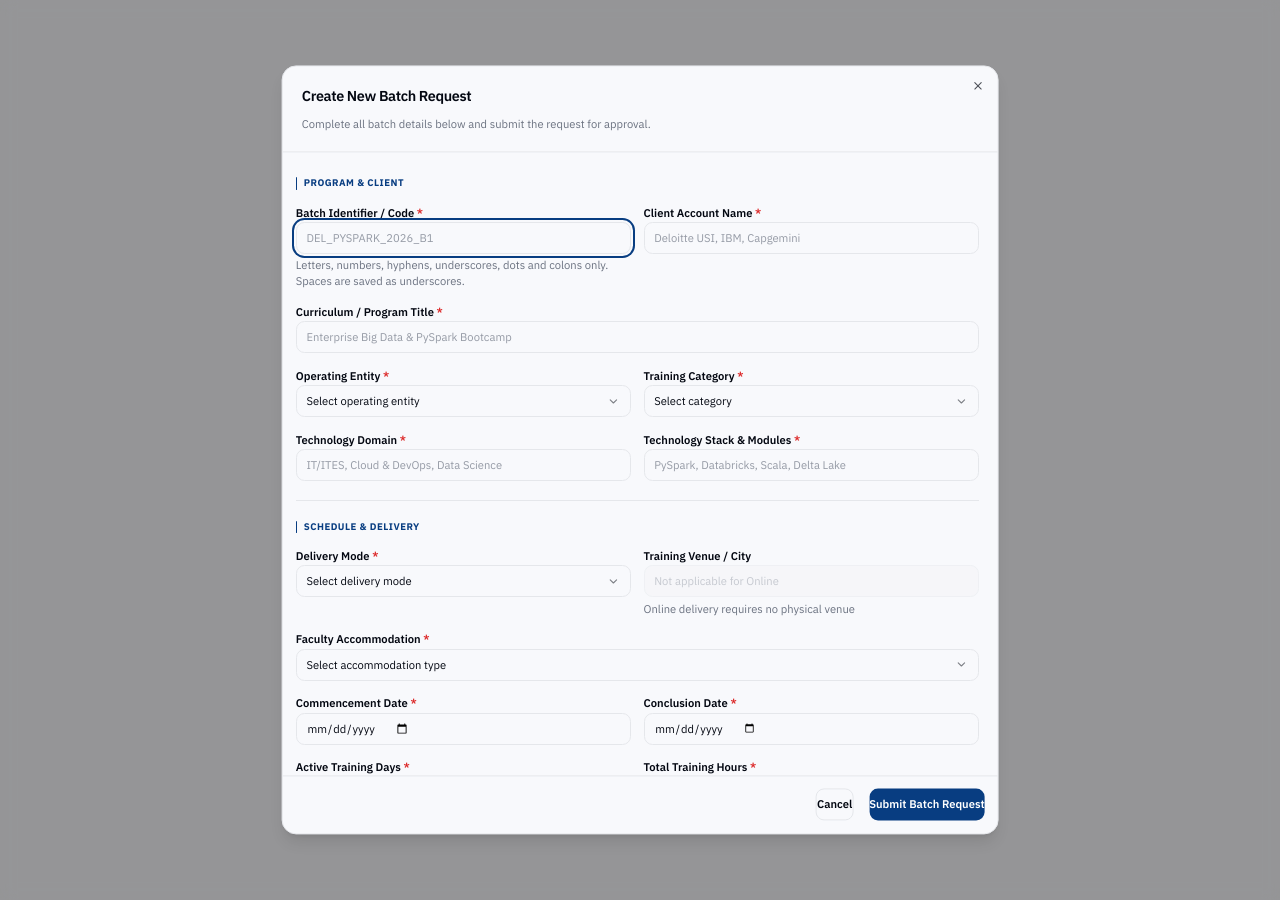
Test case: CreateBatchModal faculty chip field › normalizes the batch identifier to the allowed charset while typing
// Typed with spaces, which must never reach the form as-is.
In the field labelled "Batch Identifier / Code *": coordinates (463, 239) [295, 223, 630, 255], type "DLTE_AI Strategist _Sep26_B29"
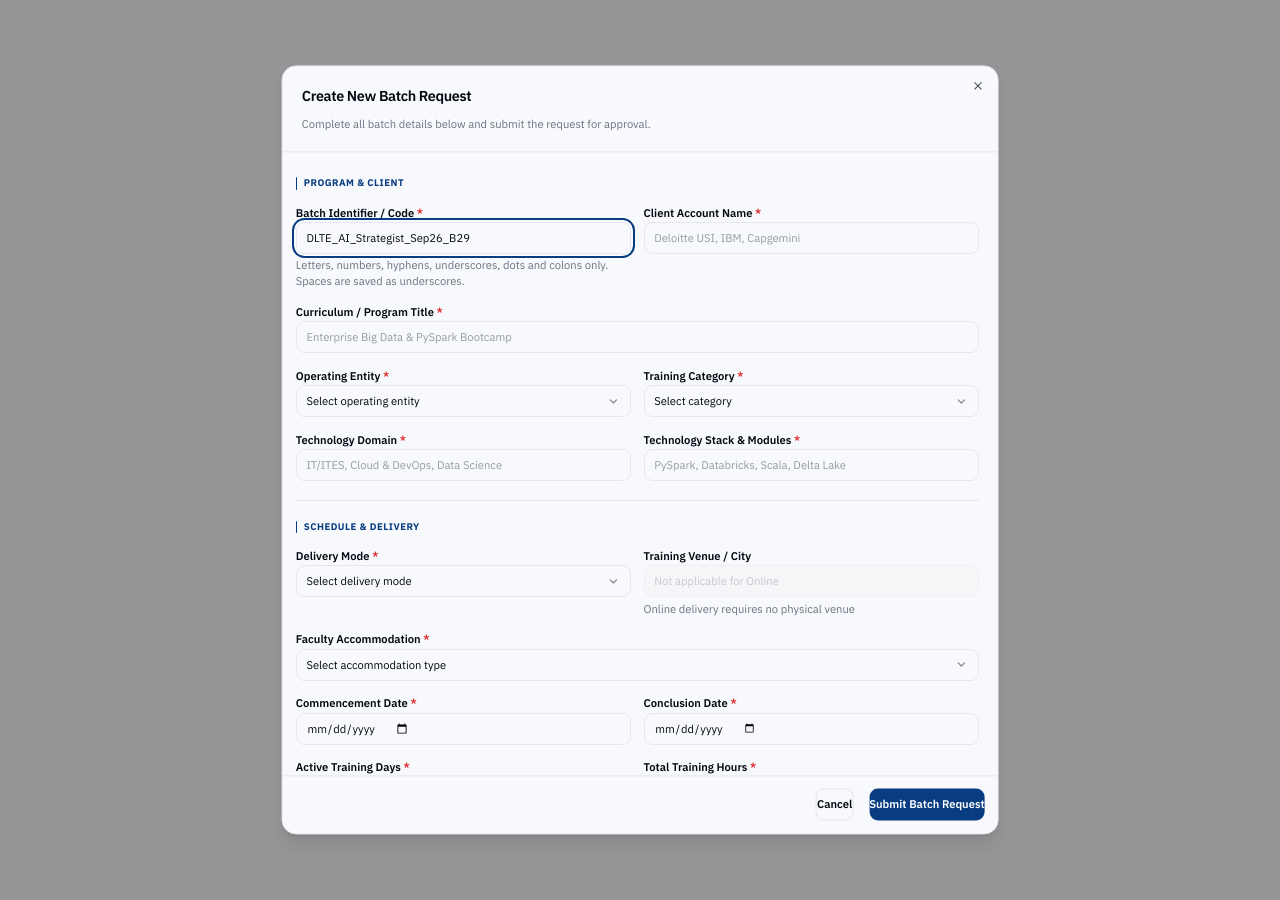
Check: the field labelled "Batch Identifier / Code *" holds "DLTE_AI_Strategist_Sep26_B29", box [295, 223, 630, 255]
